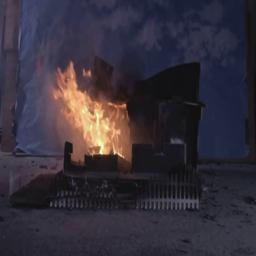fire: (54, 58, 132, 161)
